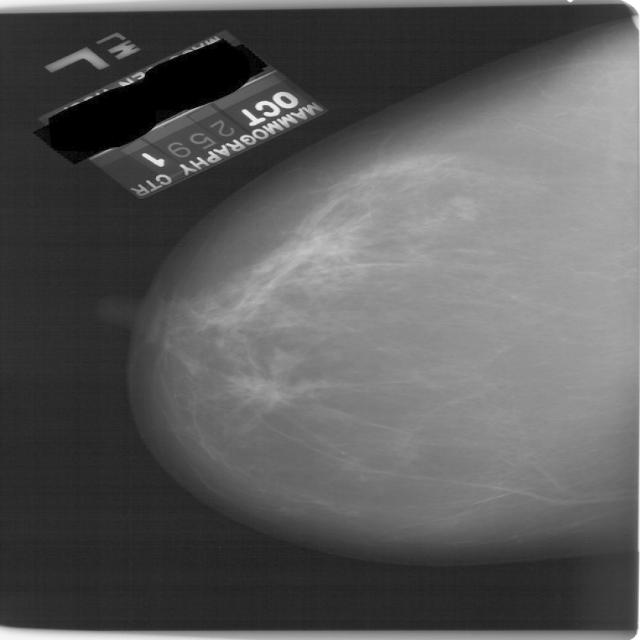tumour: (227, 373, 300, 409)
